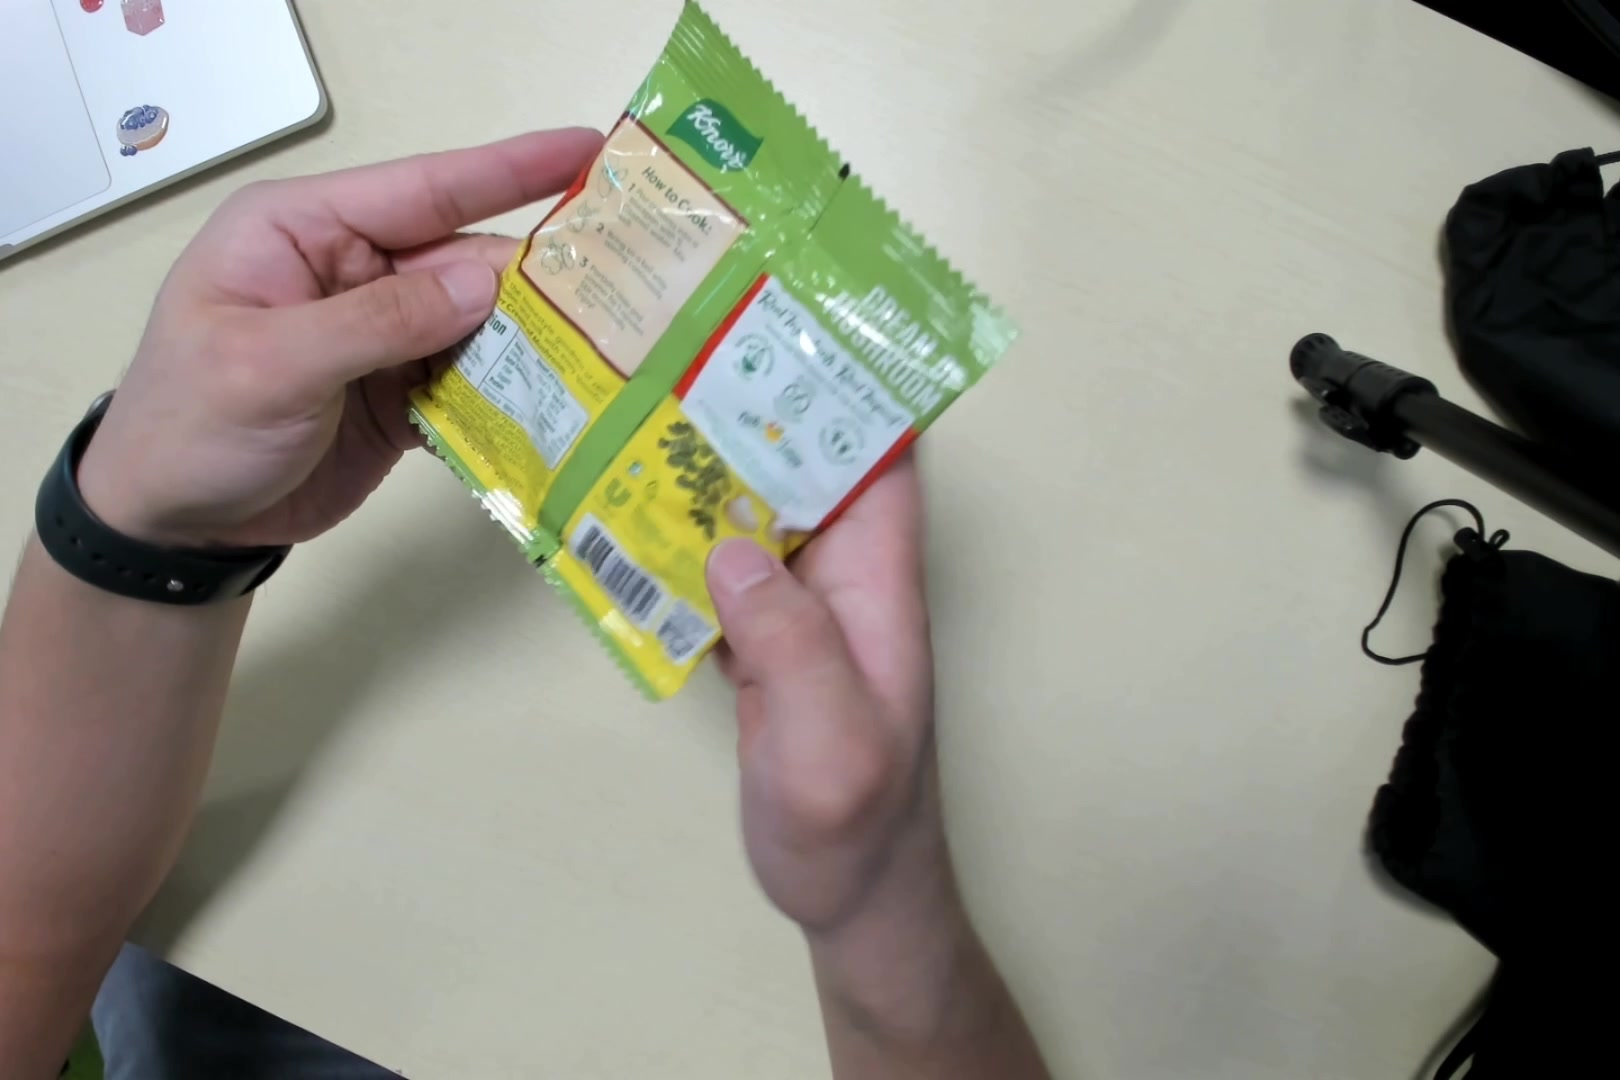OtherBakingNeeds_0-99g_NonHalal_NonHealthy: (406, 2, 1019, 702)
